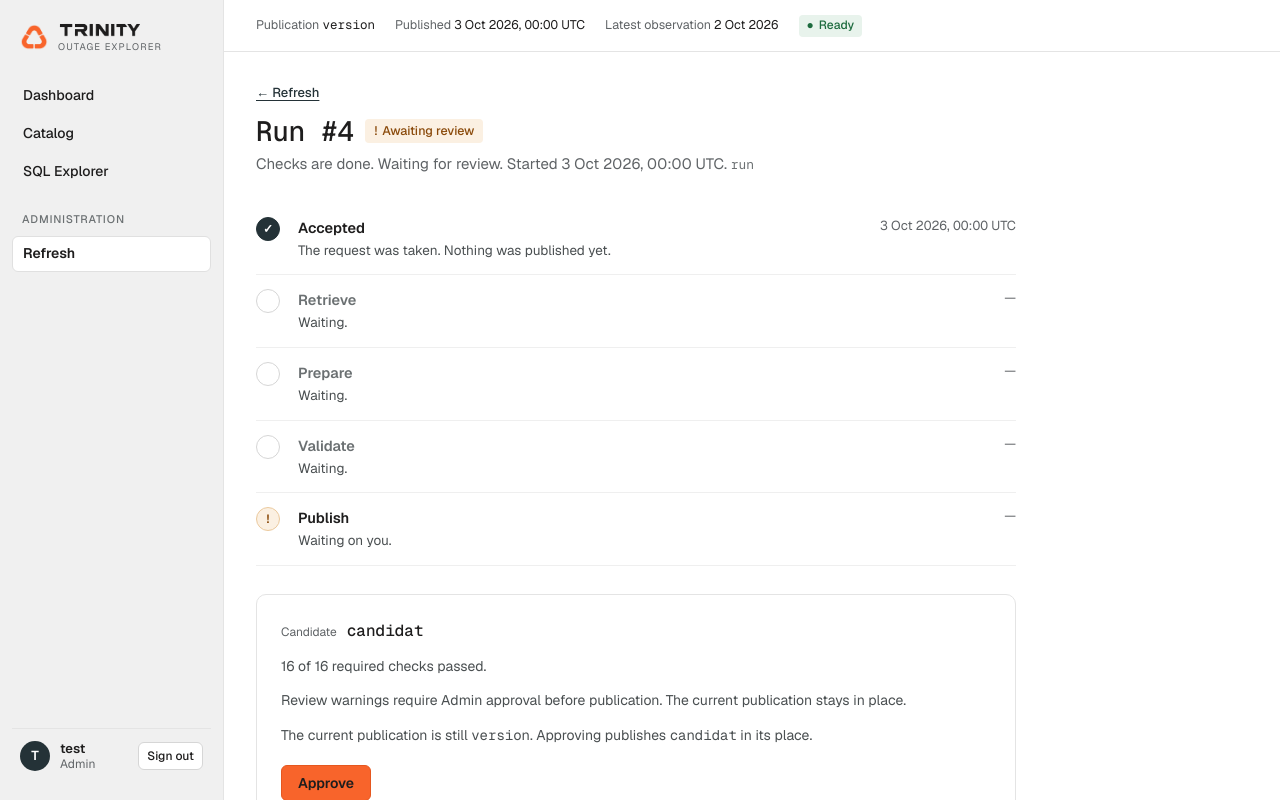
Test: candidate revision conflict reloads evidence and requires another review
The image size is (1280, 800).
Click the button "Approve": (326, 783) [281, 765, 371, 799]
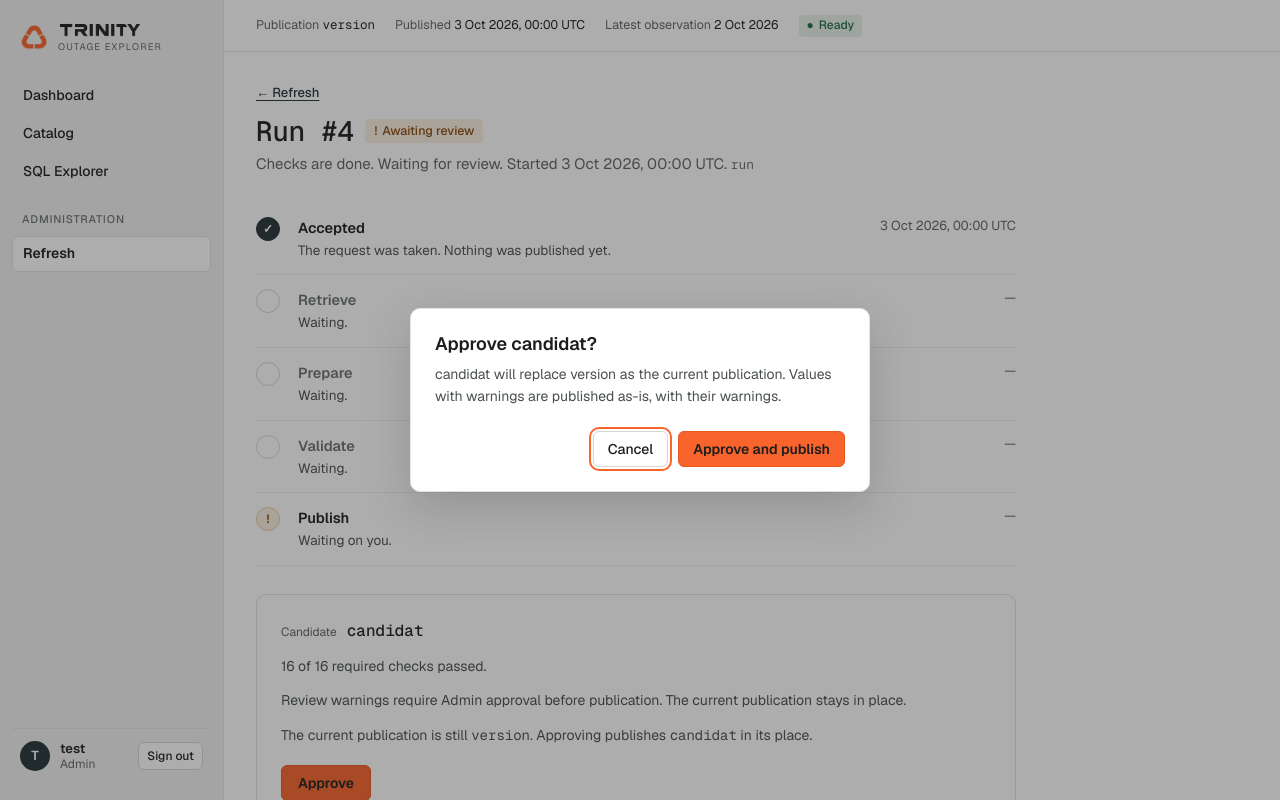
Click the button "Approve and publish": (762, 450) [678, 432, 845, 468]
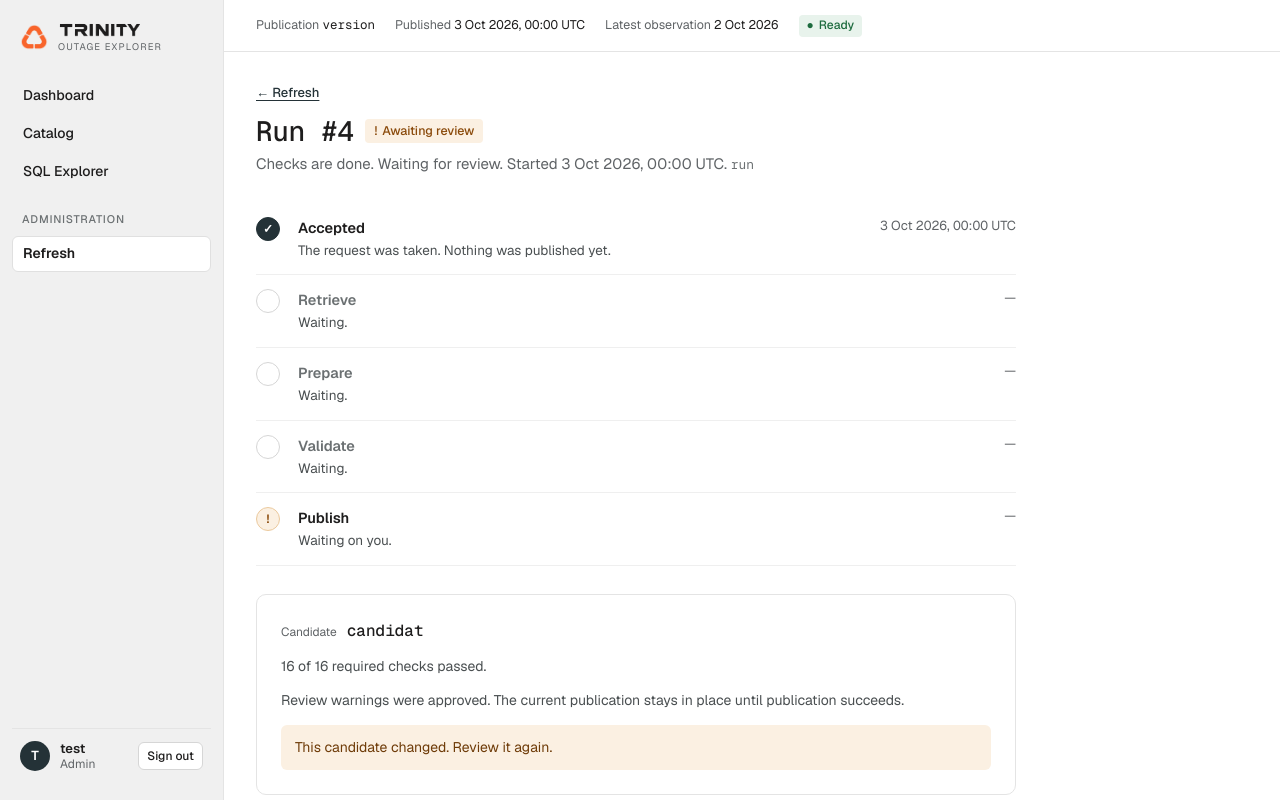
Result: the text "This candidate changed. Review it again." is shown at [295, 736, 552, 758]
Result: the dialog is gone
